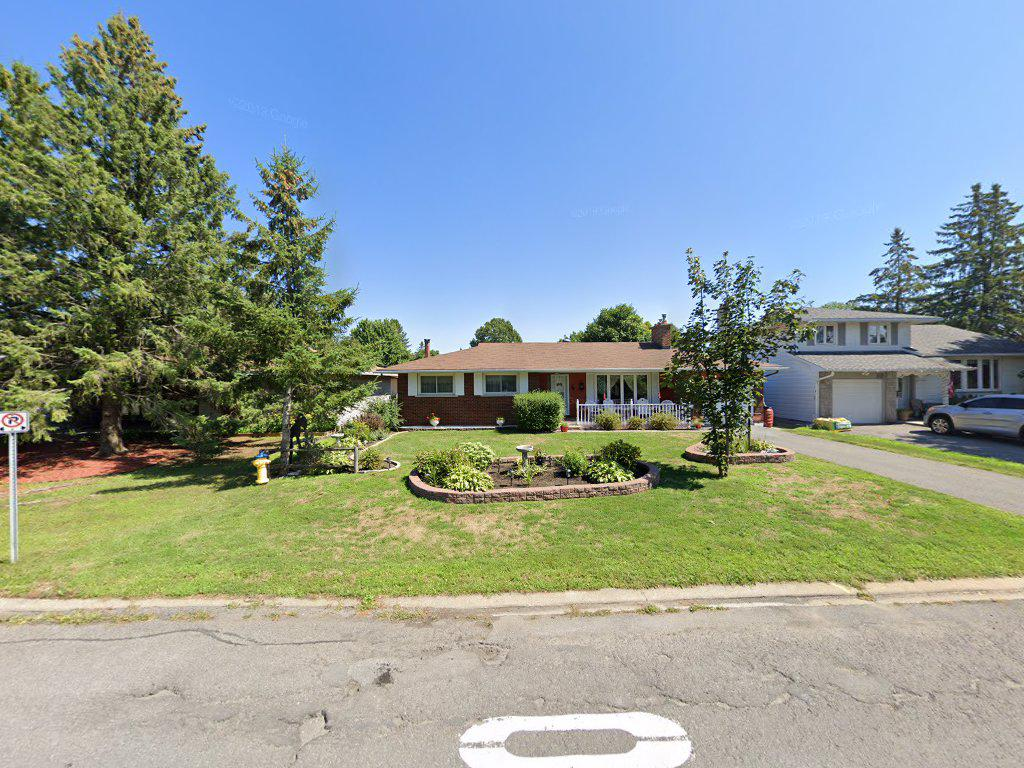trunk: (98, 395, 126, 458), (281, 408, 295, 475)
